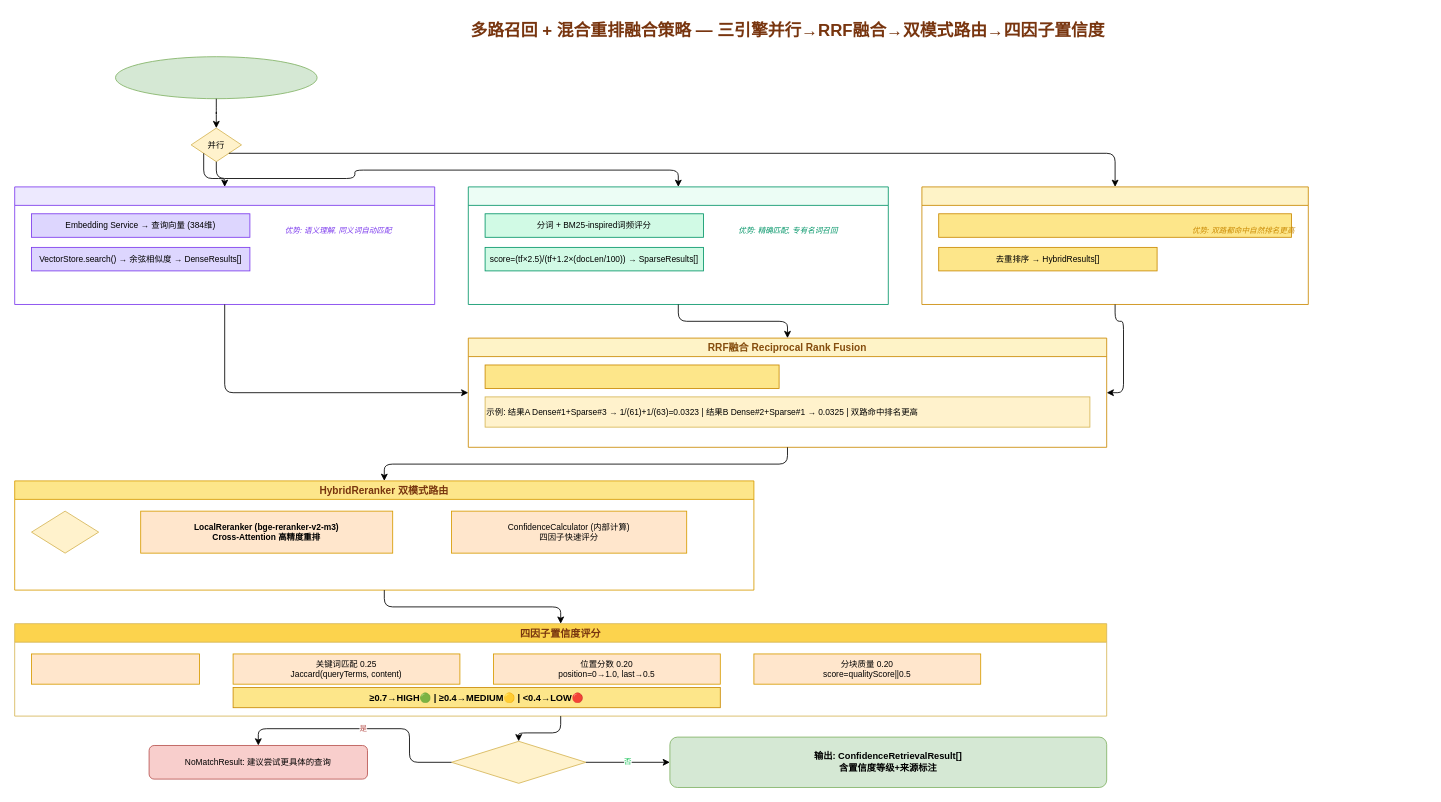
Image size: 1441x802. Some labels were removed from this diagram. The box of each missing label's shape, as (x1, y1, x2, y2) in pixels:
avgConfidence < 0.3?: (451, 740, 586, 783)
N≤20?: (31, 510, 99, 553)
关键词检索 Keyword Search: (467, 186, 888, 304)
双路命中→分数叠加, 单路命中→仅加权: (938, 213, 1292, 237)
向量相似度 0.35: (31, 653, 200, 684)
核心公式: score(id) = Σ 1/(60 + rank_i): (484, 364, 779, 388)
混合检索 Hybrid Search (semantic:0.7 + keyword:0.3): (921, 186, 1308, 304)
用户查询 + 扩展术语: (115, 56, 317, 99)
语义检索 Semantic Search: (14, 186, 435, 304)
